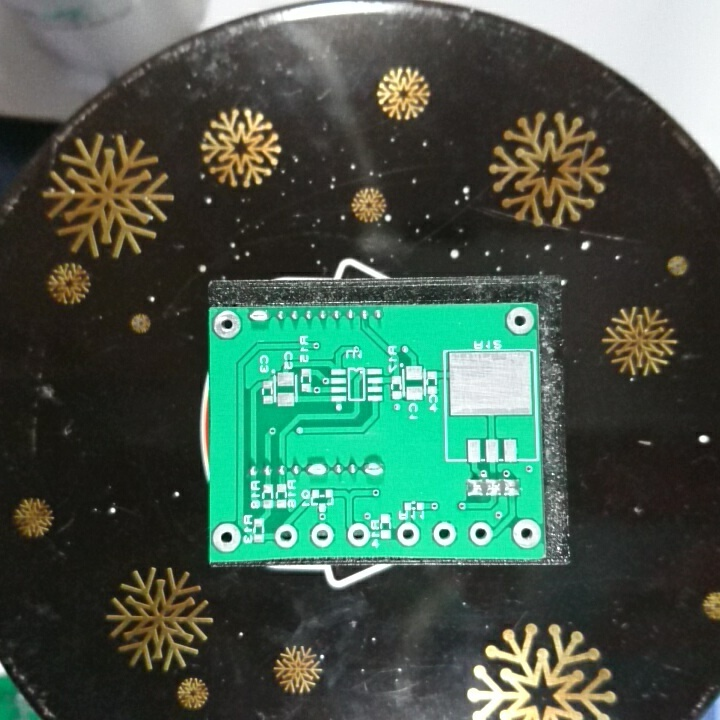F: (503, 305, 536, 338), (211, 522, 244, 555), (509, 517, 542, 549), (211, 309, 243, 341), (307, 521, 337, 549), (394, 520, 422, 550), (431, 519, 459, 549), (467, 518, 495, 548), (271, 523, 301, 549), (345, 521, 371, 549)
P: (303, 458, 330, 479), (246, 307, 271, 326), (361, 459, 385, 478)
